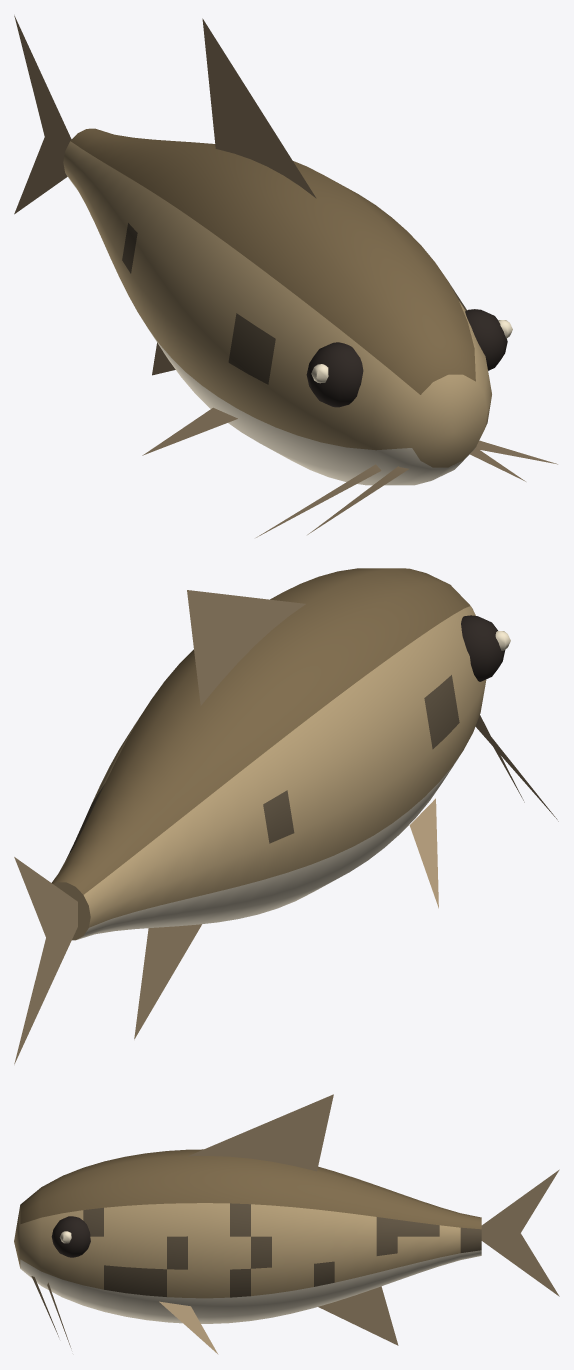
File: gudgeon.fbx
3 views of the same model, one above another, from view 1: azimuth 30°, elevation 25°; view 2: azimuth 150°, elevation 25°; view 3: azimuth 270°, elevation 25° (orthographic). The views are drawn at different scales.
Visible parts, largest first — view 1: Fish_gudgeon_EXP; view 2: Fish_gudgeon_EXP; view 3: Fish_gudgeon_EXP.
Part boxes in pixels (left/top/right/bottom): Fish_gudgeon_EXP: left=14, top=15, right=557, bottom=537; Fish_gudgeon_EXP: left=14, top=568, right=558, bottom=1064; Fish_gudgeon_EXP: left=14, top=1094, right=559, bottom=1354.
Bounding box in the file's own units: 0.108 × 0.1325 × 0.2604.
